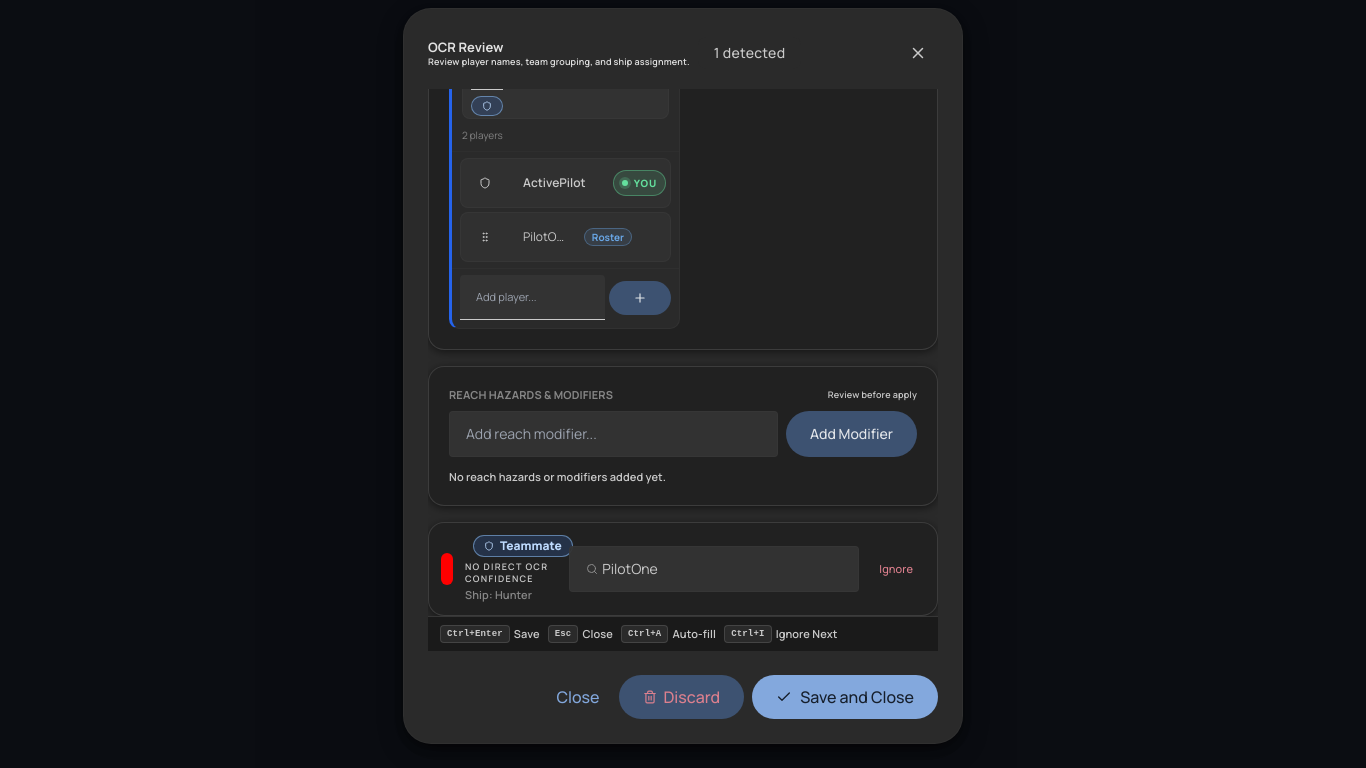
OcrCorrectionModal › supports ignore and undo-ignore actions for detected players
(page scrolled)
Click the button "Ignore": (896, 569) x1=867 y1=551 x2=925 y2=587
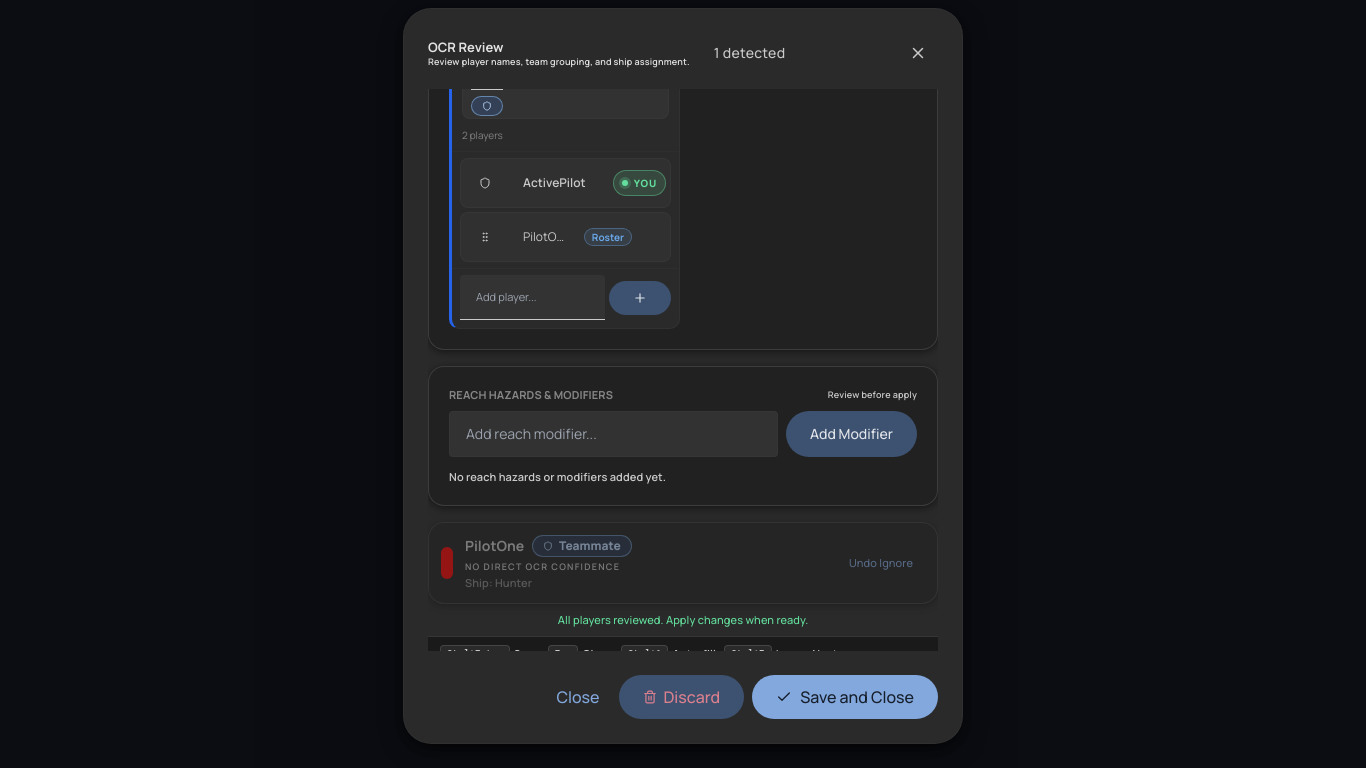
expect the button "Undo Ignore" is shown: met
Click the button "Undo Ignore": (881, 563) x1=837 y1=545 x2=925 y2=581
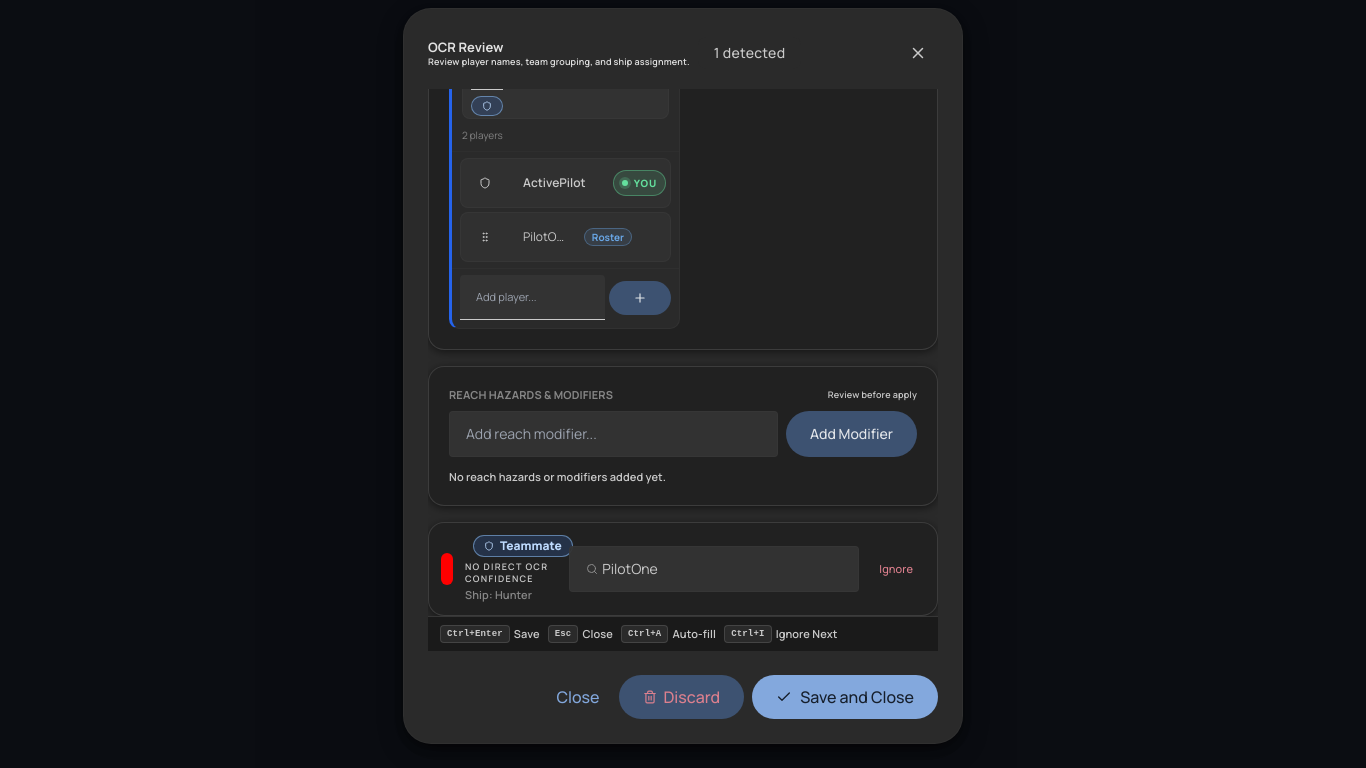
expect the button "Ignore" is shown: met, box x1=867 y1=551 x2=925 y2=587
